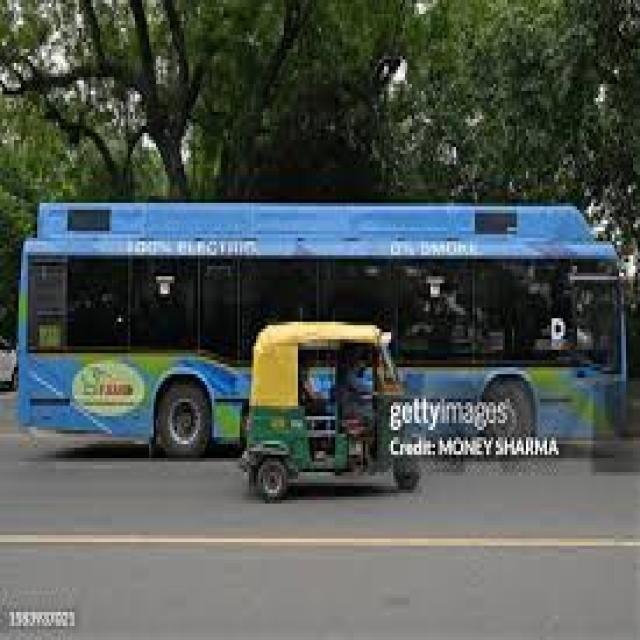bus: (4, 170, 238, 480)
tuktuk: (258, 296, 438, 514)
